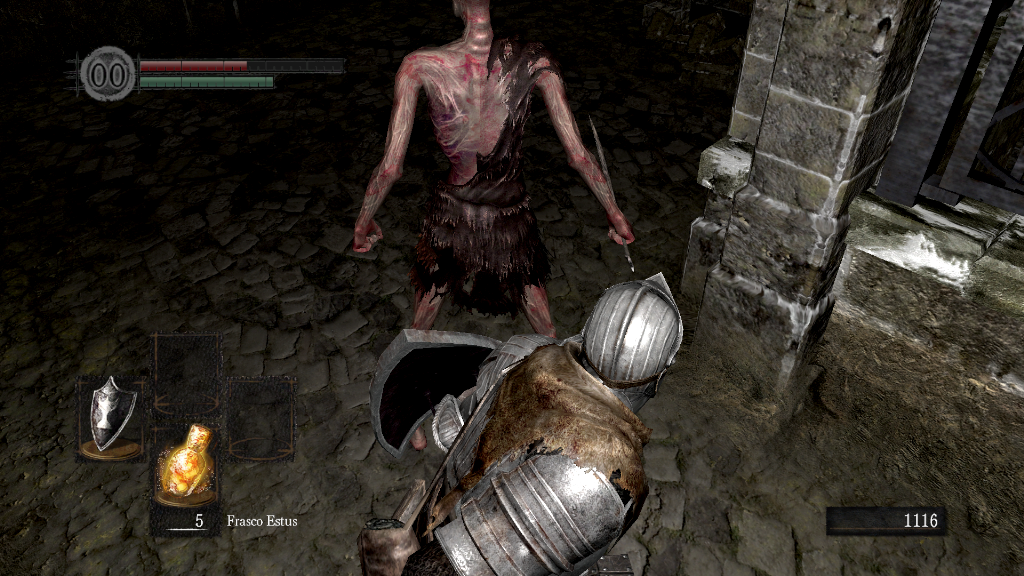health: (138, 58, 343, 71)
hollow: (351, 1, 636, 340)
humanity: (80, 45, 136, 102)
player: (357, 270, 686, 576)
souls: (825, 506, 945, 536)
stamina: (138, 74, 274, 88)
